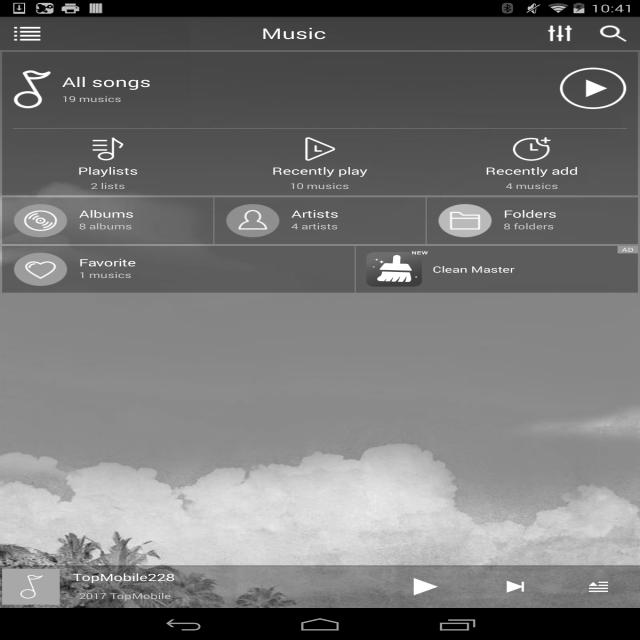Button: (222, 406, 316, 472), (324, 406, 418, 472), (426, 406, 520, 472), (454, 352, 614, 376)
ImageButton: (0, 17, 60, 59)
ImageView: (0, 59, 640, 254), (0, 568, 410, 640), (26, 270, 196, 377), (414, 568, 640, 640), (332, 406, 411, 455), (434, 406, 513, 455), (60, 30, 224, 46), (589, 270, 614, 286), (222, 312, 239, 323), (281, 464, 290, 469)
TextView: (0, 490, 640, 537), (0, 537, 640, 555), (222, 270, 589, 295), (589, 22, 640, 54), (324, 455, 418, 472), (426, 455, 520, 472), (120, 455, 213, 472), (526, 380, 614, 392), (245, 311, 316, 325), (144, 420, 188, 440), (250, 415, 288, 437), (222, 295, 271, 309), (133, 443, 200, 452), (247, 455, 278, 472)
